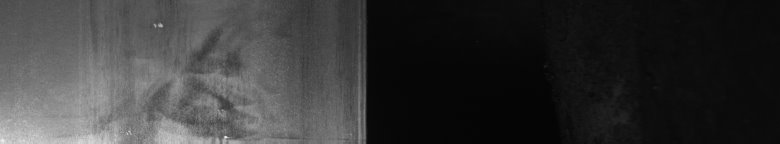hc: (127, 20, 247, 135)
